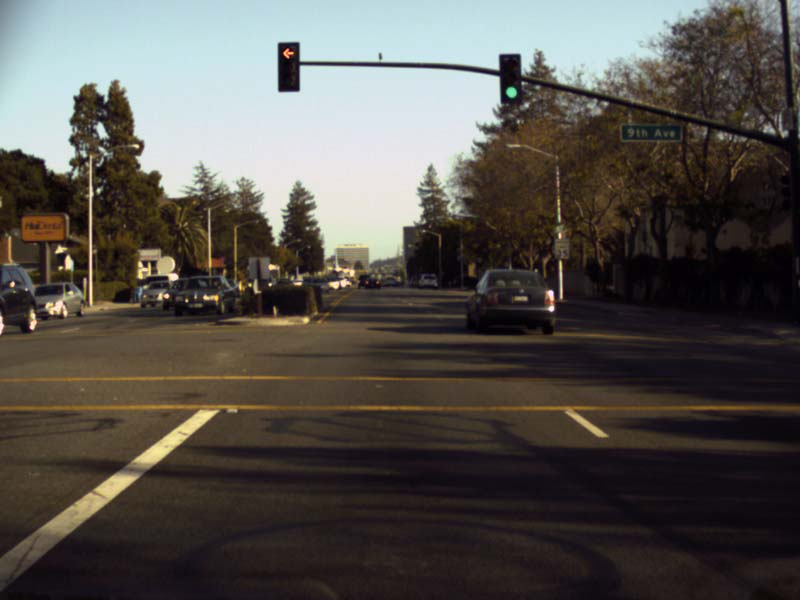Green: (498, 53, 521, 102)
Red: (277, 41, 299, 90)
